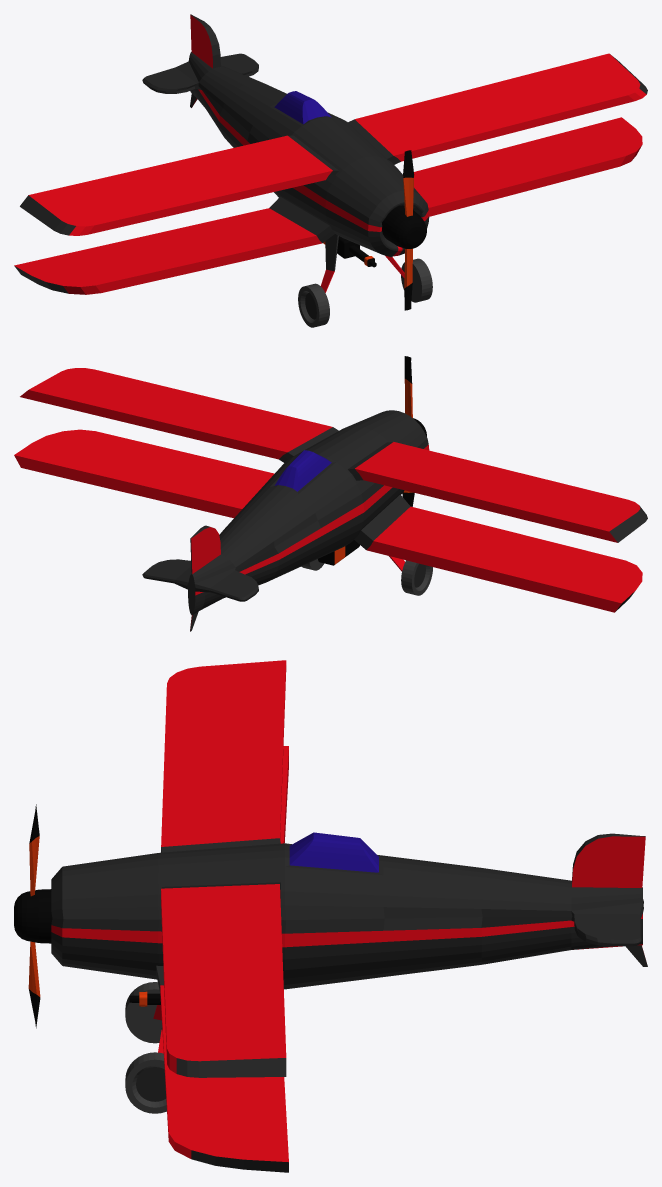
Rendered from aviao2.fbx.
The picture shows the model from 3 angles, top to bottom: view 1: azimuth 30°, elevation 25°; view 2: azimuth 150°, elevation 25°; view 3: azimuth 270°, elevation 25°; orthographic projection. The views are drawn at different scales.
Visible parts, largest first — view 1: Corpo, Helice, Arma; view 2: Corpo, Helice, Arma; view 3: Corpo, Helice.
Boxes of the visible parts, x1,y1,x2,y2 form: Corpo: (14, 14, 647, 327); Helice: (382, 150, 426, 310); Arma: (323, 236, 376, 267); Corpo: (14, 368, 647, 631); Helice: (402, 356, 426, 506); Arma: (318, 540, 359, 565); Corpo: (51, 660, 647, 1172); Helice: (14, 804, 52, 1028).
Size of the model in its own units: 1551 by 470 by 999.
